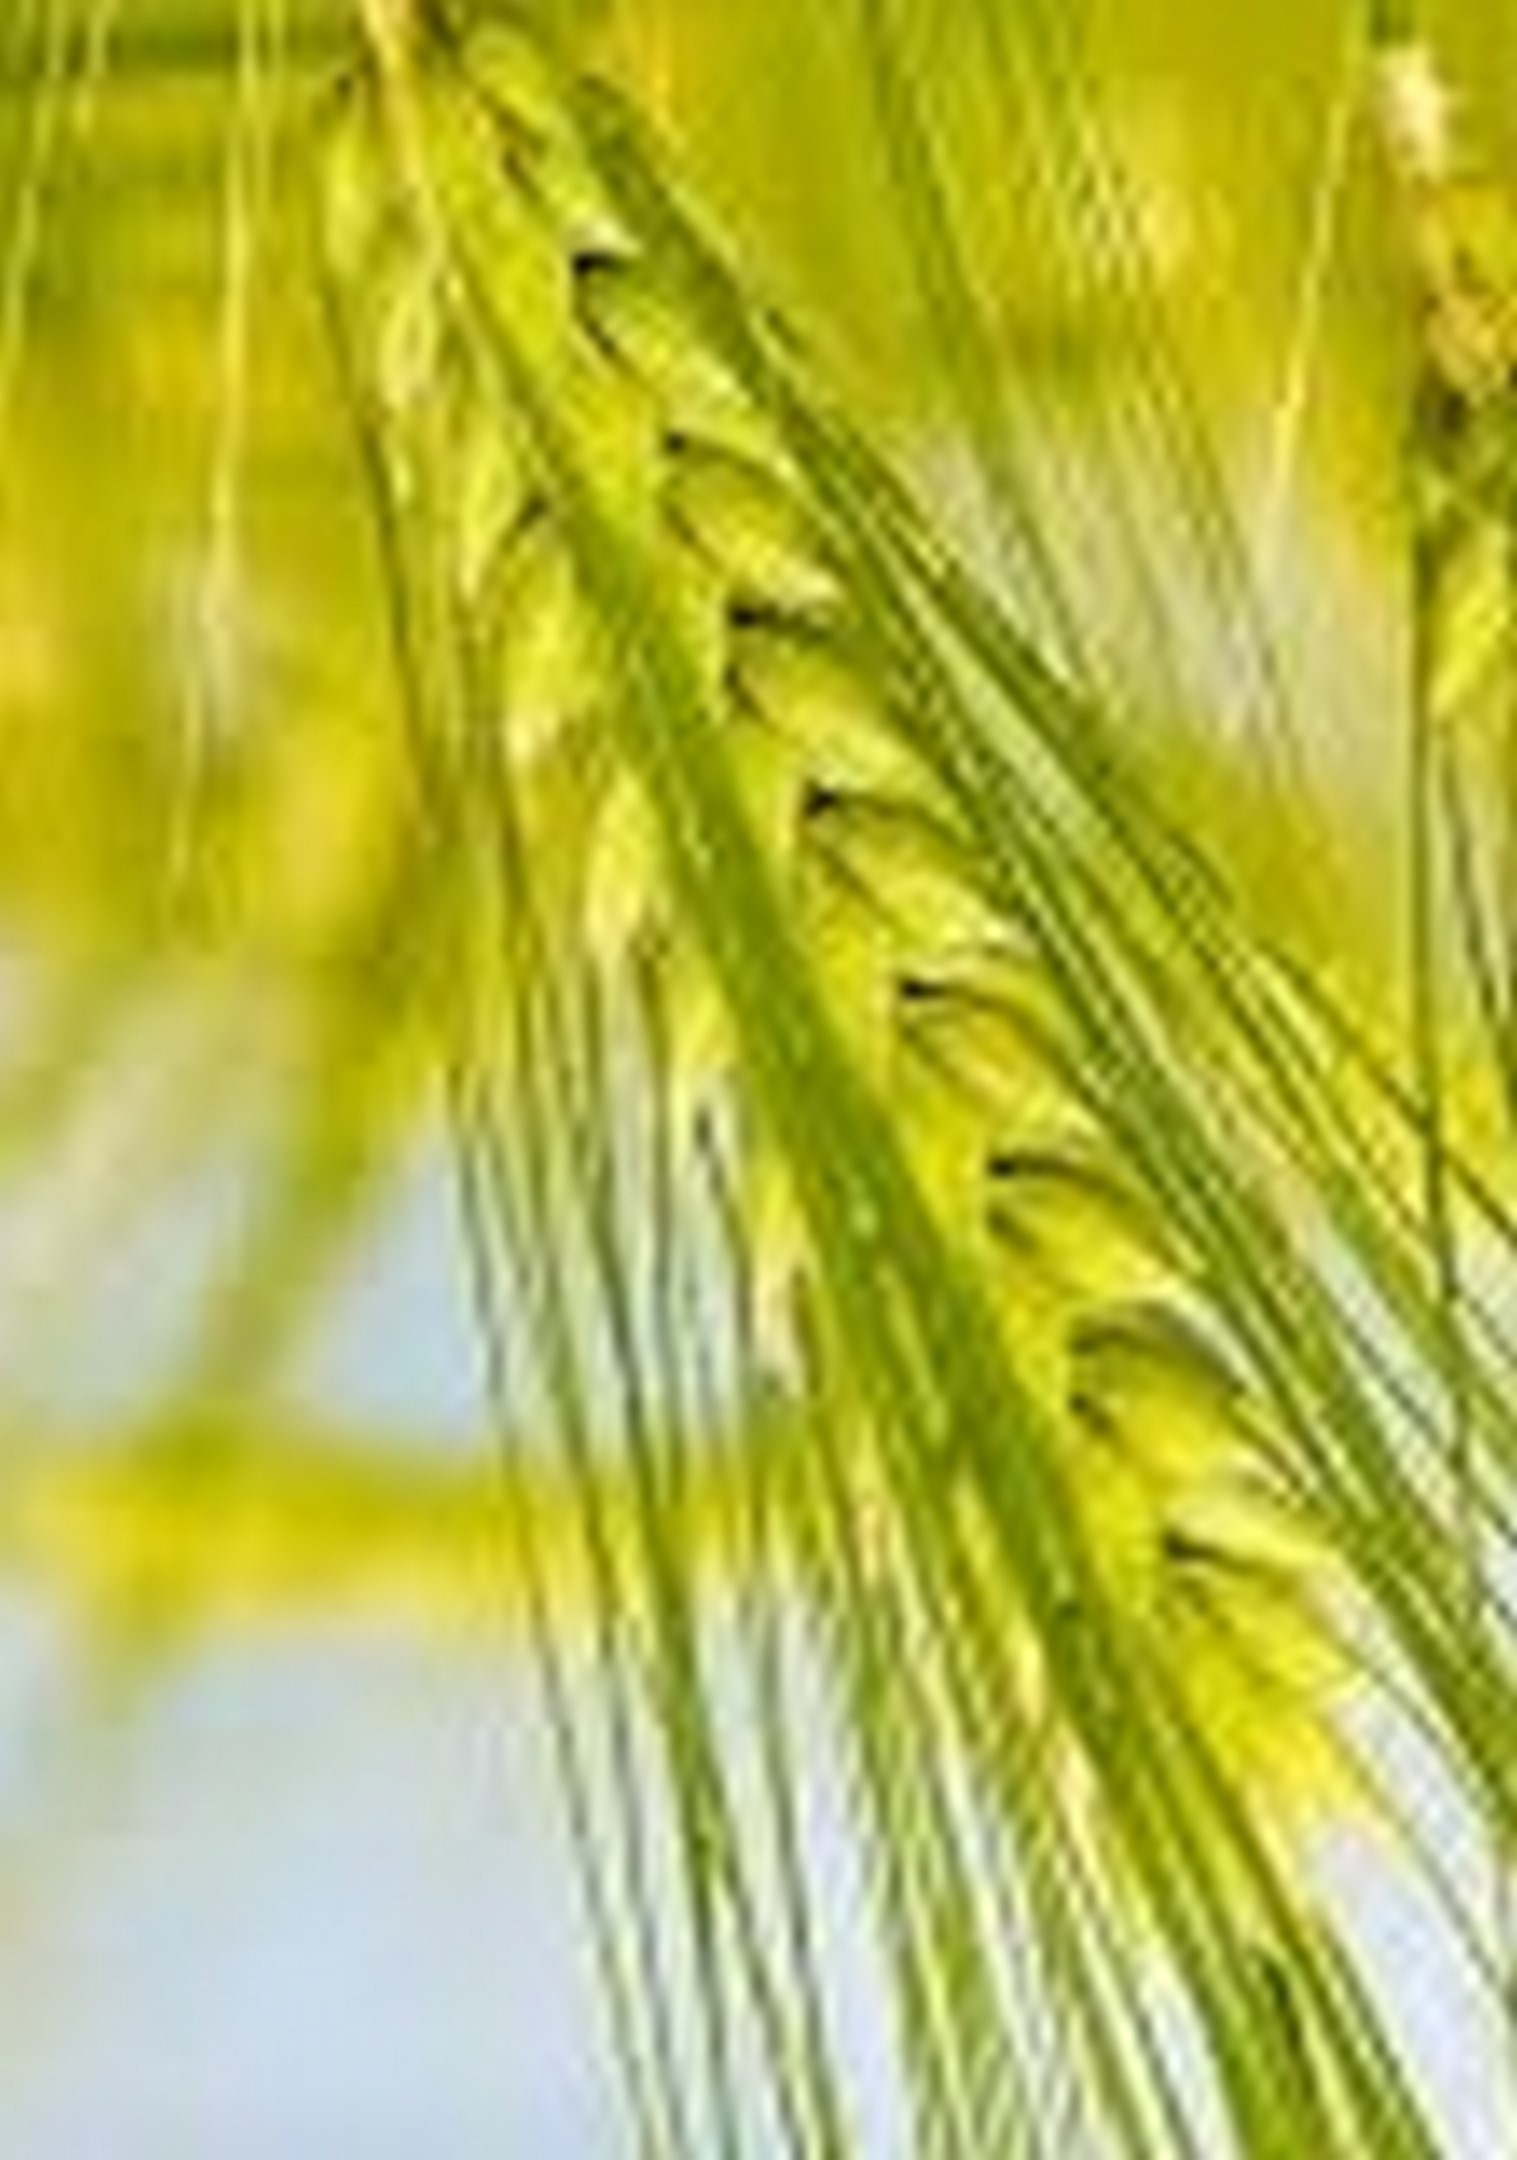Healthy Wheat: (360, 105, 1466, 1912)
